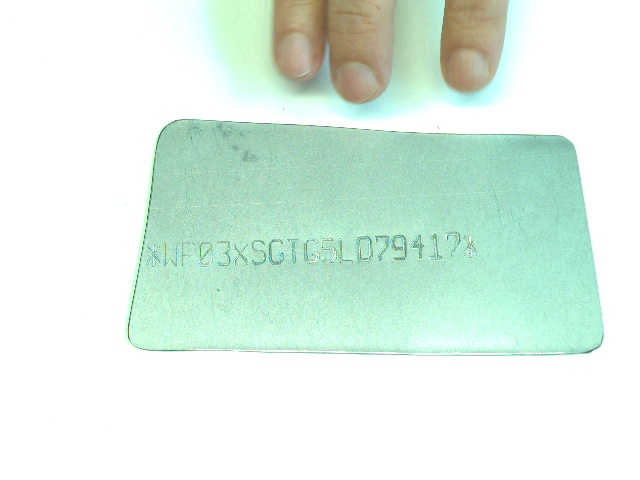0: (197, 241, 216, 268)
1: (427, 233, 445, 261)
3: (216, 239, 233, 267)
4: (408, 234, 427, 261)
5: (321, 237, 338, 264)
7: (444, 231, 462, 258), (374, 233, 390, 262)
9: (390, 234, 408, 261)
d: (356, 235, 373, 263)
f: (180, 241, 195, 267)
g: (302, 237, 321, 264), (268, 238, 286, 266)
l: (336, 237, 354, 265)
s: (250, 239, 267, 267)
t: (285, 237, 302, 264)
w: (162, 241, 179, 269)
x: (233, 242, 250, 266)
